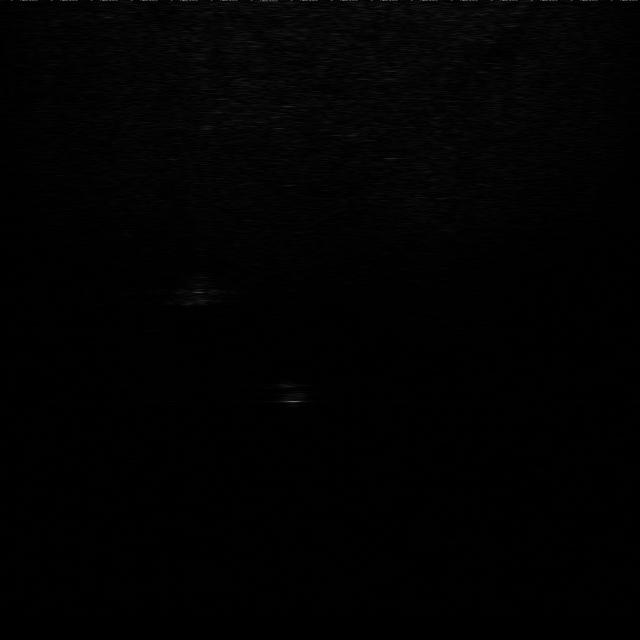circle cage: (172, 272, 228, 310)
tyre: (259, 377, 315, 410)
